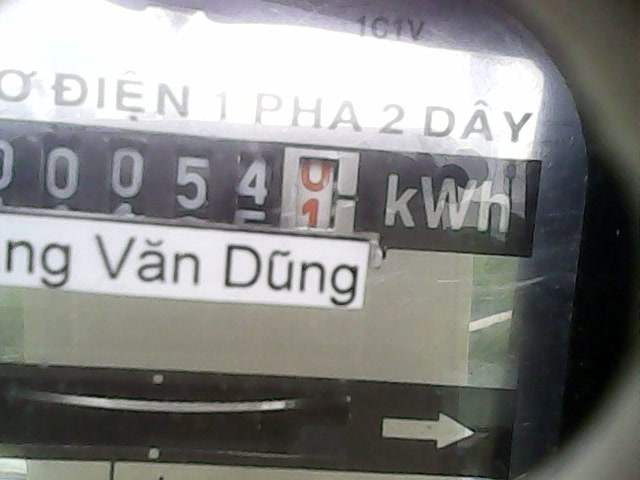phy_plate: (1, 116, 372, 249)
